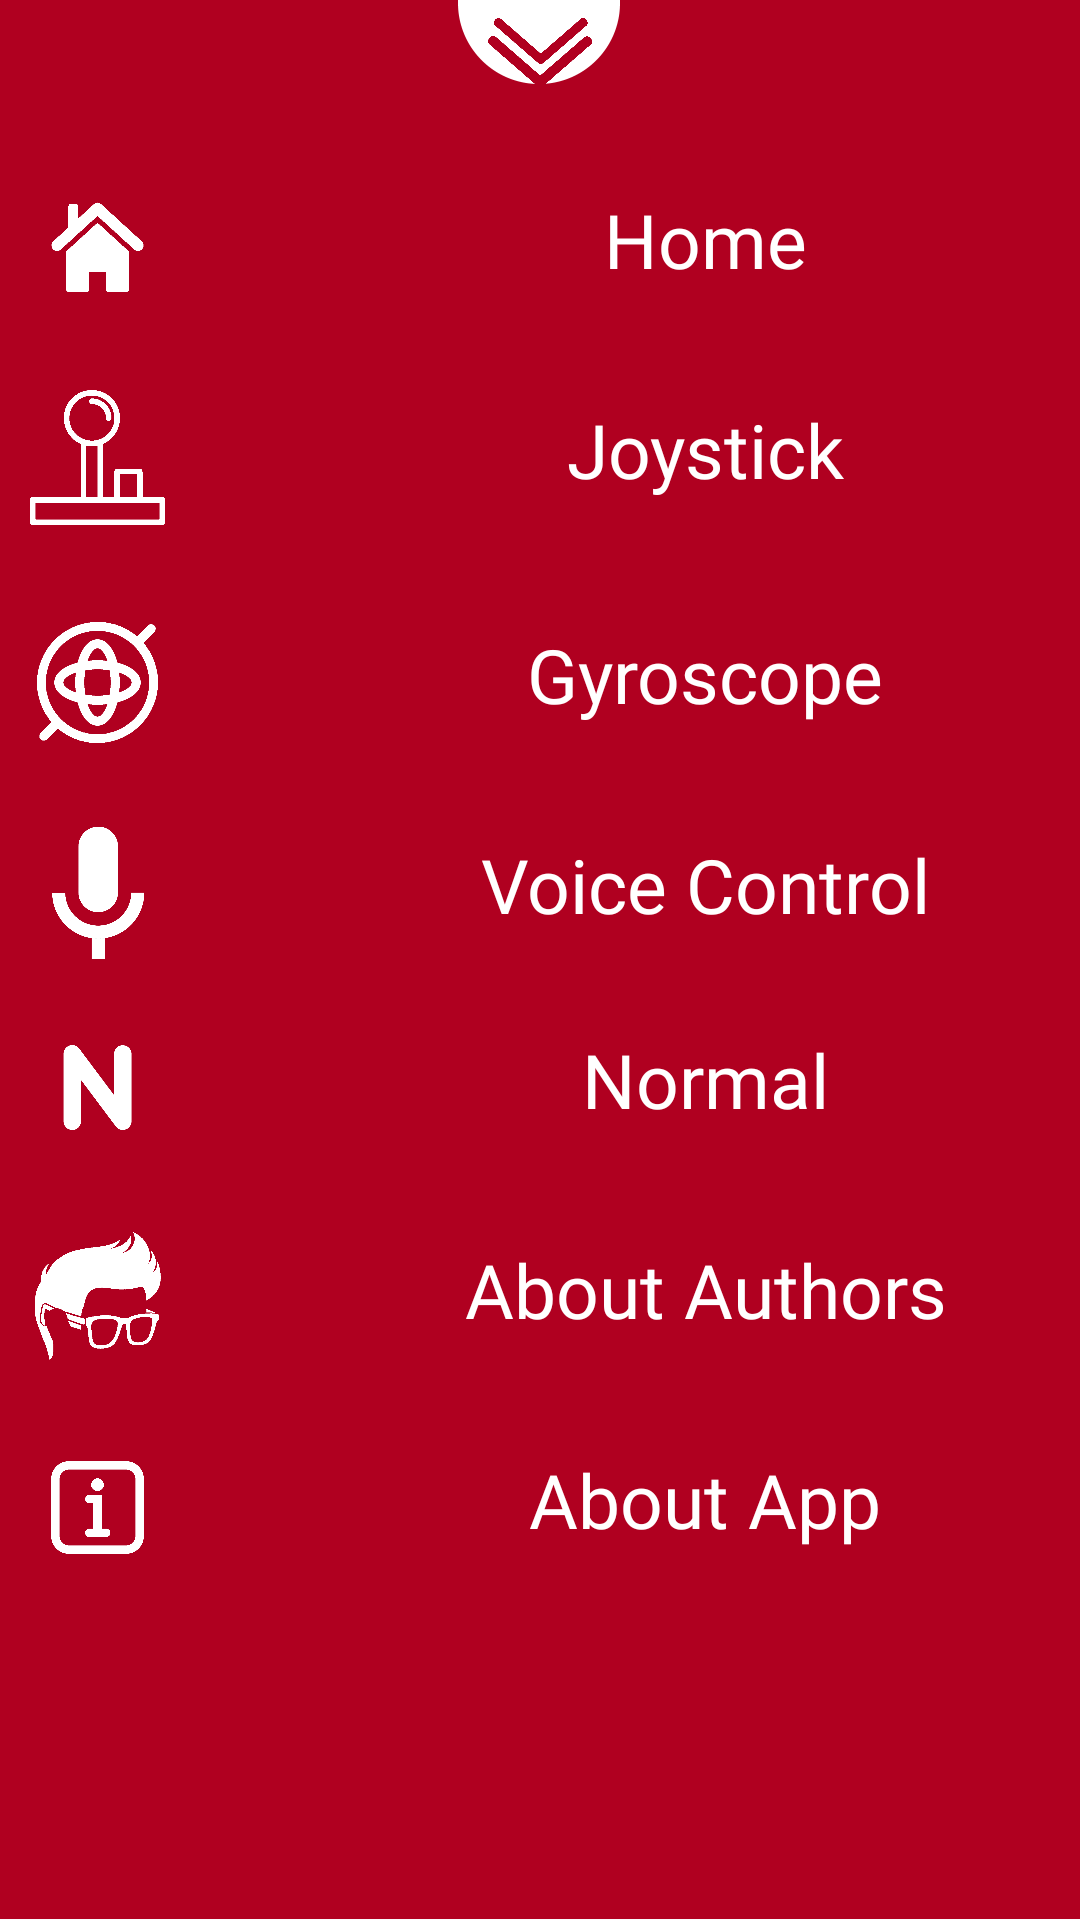

Icon click points for this 1080*1920 phone screenshot, format (x,y):
icoarrowred: (539,42)
icogyrowhite: (97,682)
icomicwhite: (98,893)
